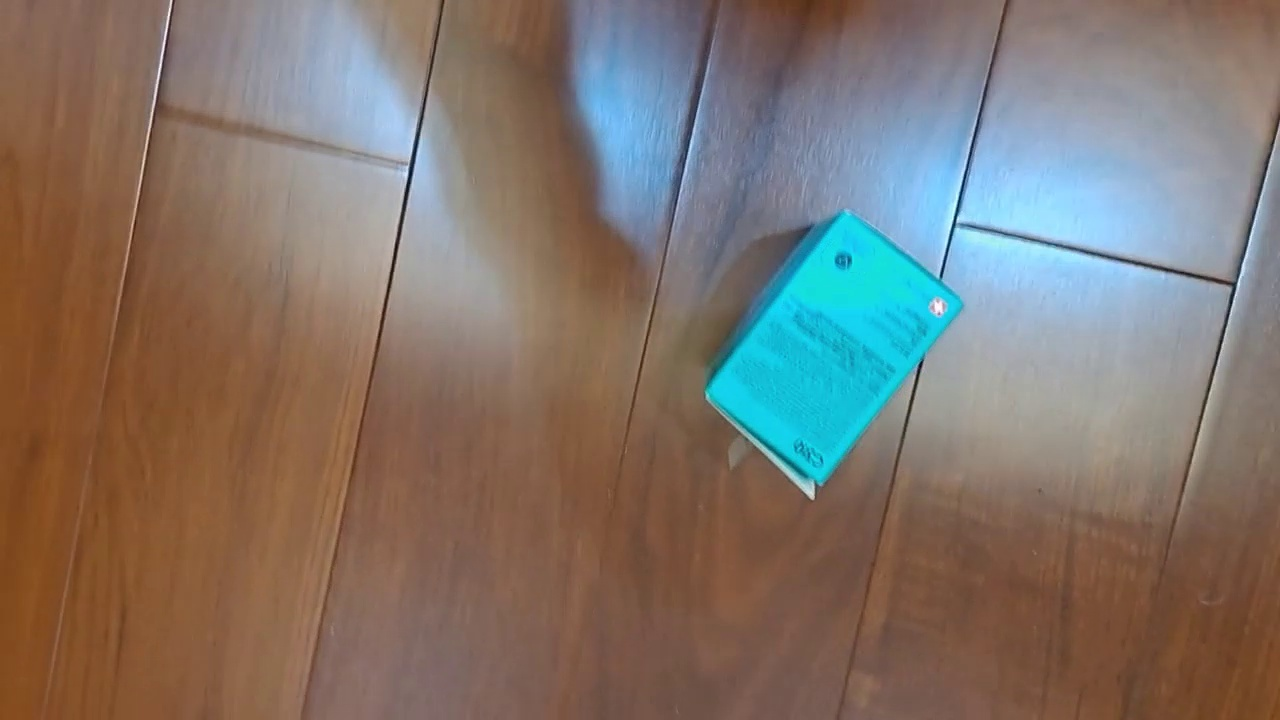webcam: (704, 207, 964, 501)
